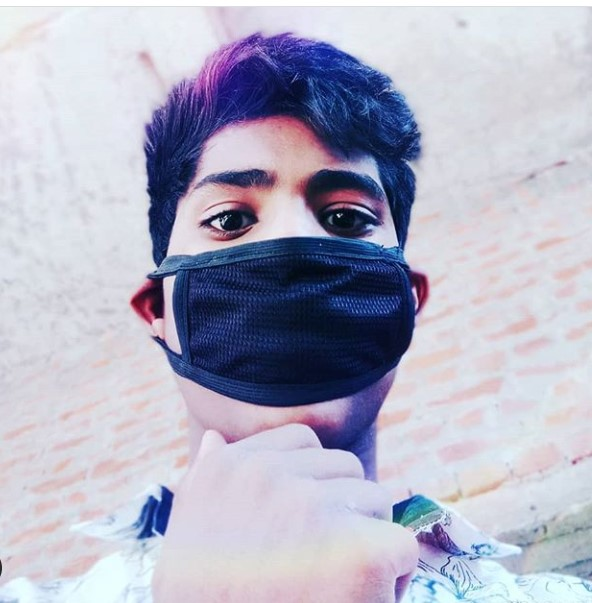face_with_mask: (134, 34, 431, 457)
